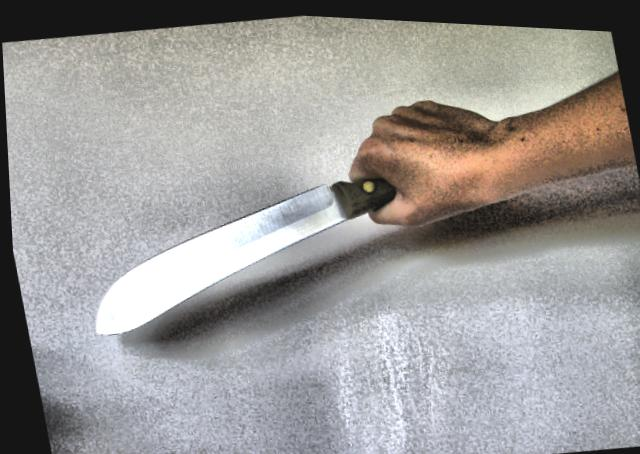knife: (30, 82, 449, 363)
